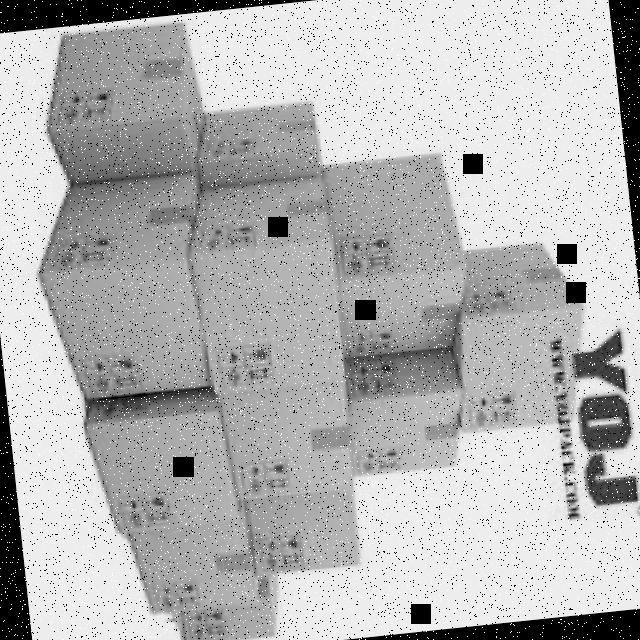cardboard_box: (18, 170, 226, 417), (186, 158, 376, 400), (312, 119, 468, 361), (32, 11, 225, 203), (438, 217, 596, 446), (216, 336, 362, 512), (77, 377, 245, 528), (224, 422, 372, 588), (115, 475, 268, 624), (341, 349, 467, 495), (188, 90, 330, 193)
